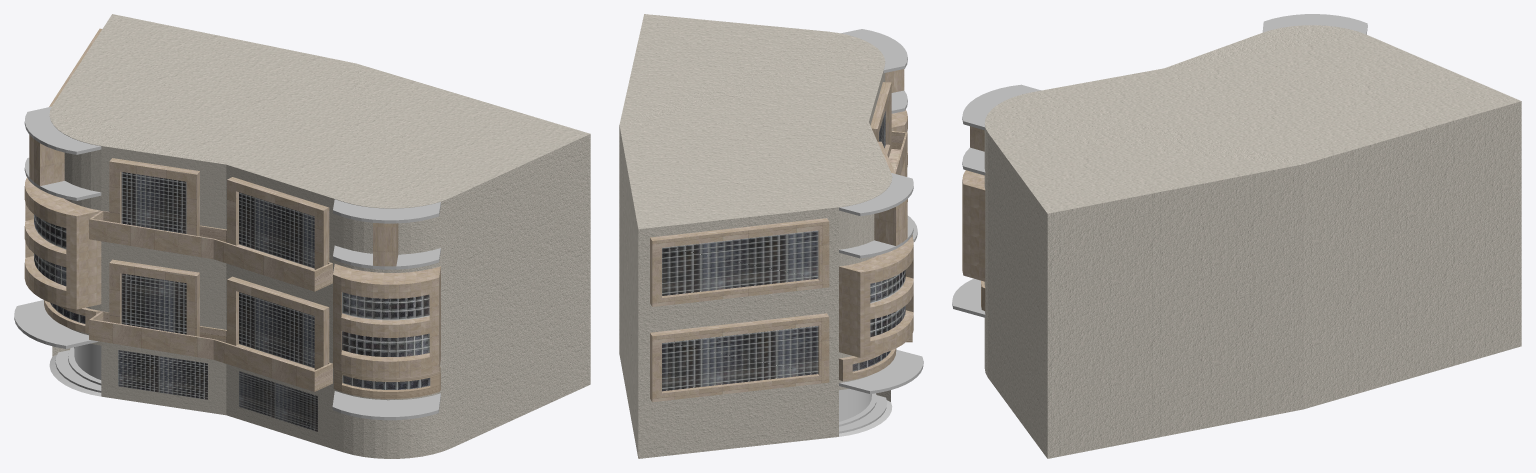
The model's file is Disco 7.fbx.
3 renders of one model, left to right at view 1: azimuth 30°, elevation 25°; view 2: azimuth 150°, elevation 25°; view 3: azimuth 270°, elevation 25°, orthographic. The views are drawn at different scales.
Visible parts, largest first — view 1: Cube.037, Cube.011, Cube.050, Cube.008, Cube.004, Cube.009, Cube, Cube.006, Cube.007, Cube.021, Cube.020, Cube.010 (+11 smaller); view 2: Cube.037, Cube.017, Cube.016, Cube.050, Cube.001, Cube.002, Cube.005, Cube.022, Cube.014, Cube.051, Cube.004, Cube.019 (+5 smaller); view 3: Cube.037, Cube.011, Cube.014, Cube.002, Cube.015.
Part boxes in pixels (x1,y1,x2,y2): Cube.037: (49,14,590,458); Cube.011: (333,264,440,378); Cube.050: (24,177,101,309); Cube.008: (227,276,329,370); Cube.004: (227,177,329,270); Cube.009: (109,158,199,236); Cube: (109,259,199,336); Cube.006: (89,311,332,391); Cube.007: (89,211,332,291); Cube.021: (118,350,207,399); Cube.020: (239,371,317,431); Cube.010: (333,366,440,398); Cube.037: (619,14,892,458); Cube.017: (650,313,829,402); Cube.016: (650,218,829,306); Cube.050: (839,237,913,357); Cube.001: (839,349,923,393); Cube.002: (839,173,913,216); Cube.005: (874,199,907,245); Cube.022: (839,393,892,436); Cube.014: (841,29,907,72); Cube.051: (838,348,896,381); Cube.004: (870,82,891,157); Cube.019: (839,388,871,421); Cube.037: (984,25,1521,458); Cube.011: (962,170,985,281); Cube.014: (962,84,1041,130); Cube.002: (1262,14,1367,34); Cube.015: (952,278,985,317).
Size of the model in its own units: 3846 by 2143 by 4512.
